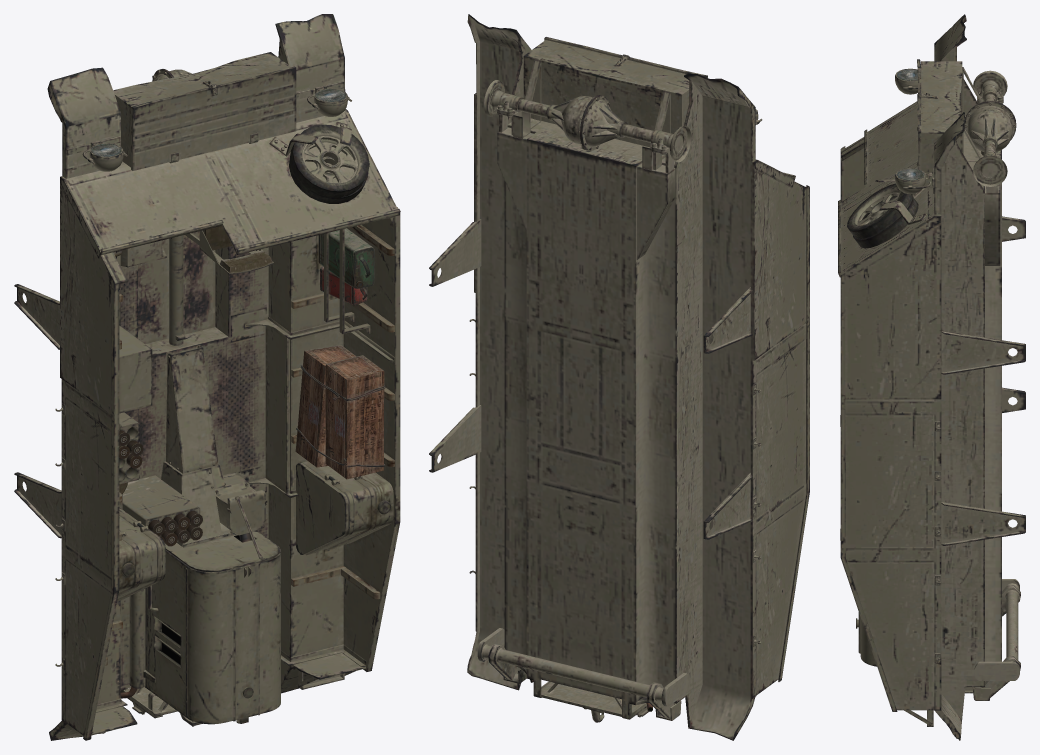
File: Hull.glb
3 renders of one model, left to right at view 1: azimuth 30°, elevation 25°; view 2: azimuth 150°, elevation 25°; view 3: azimuth 270°, elevation 25°, orthographic. The views are drawn at different scales.
Visible parts, largest first — view 1: set_0_group_0; view 2: set_0_group_0; view 3: set_0_group_0.
Boxes of the visible parts, x1,y1,x2,y2 form: set_0_group_0: [14, 14, 400, 740]; set_0_group_0: [429, 14, 809, 740]; set_0_group_0: [838, 14, 1025, 740].
Size of the model in its own units: 1.95 by 4.28 by 1.18.
1 material, 1 textured.
